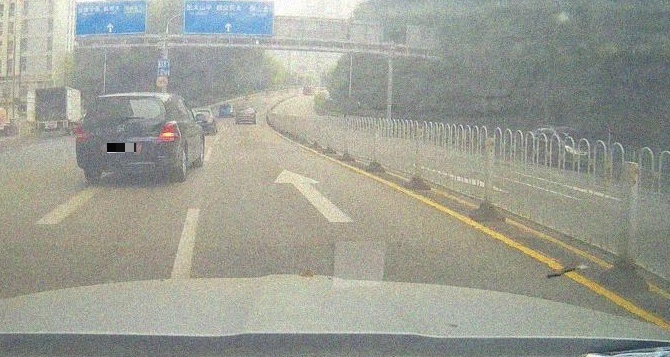L_light: (75, 126, 88, 142)
R_light: (159, 123, 176, 140)
T_light: (117, 98, 131, 101)
day-left: (76, 95, 180, 183)
plate_1: (107, 143, 136, 153)
